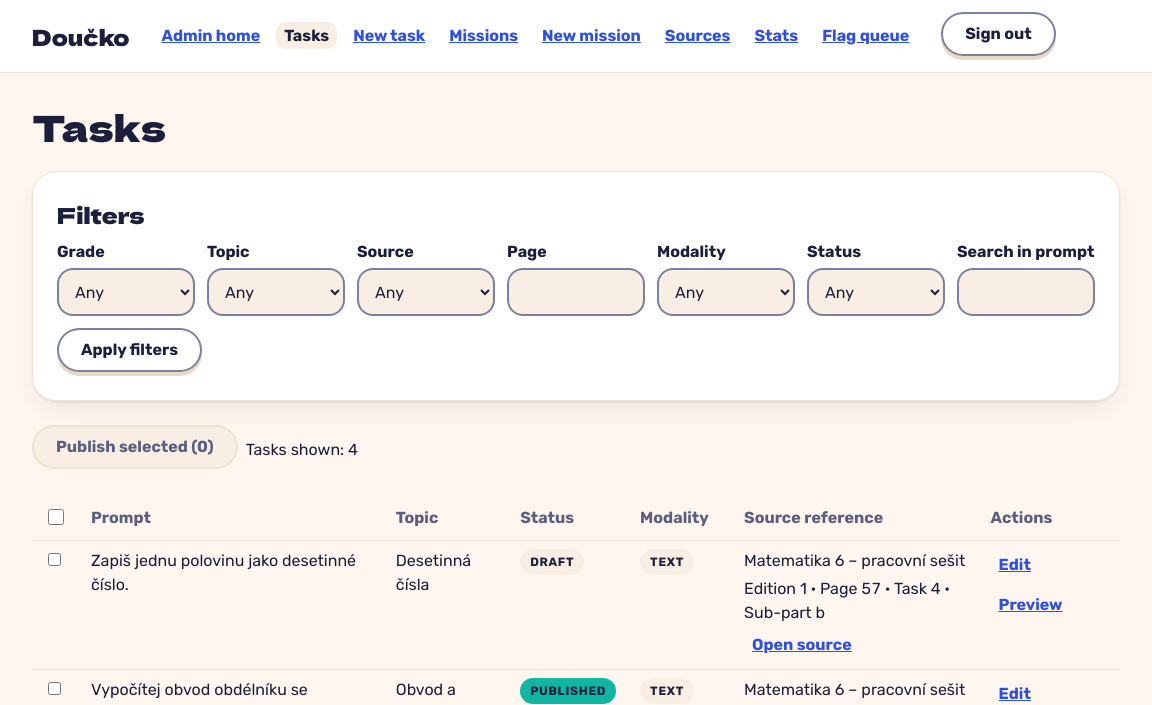
Test: task list (FR-11, FR-13) › refuses a page that is not a whole number before sending
Expected: the text "Zapiš jednu polovinu jako desetinné číslo." is shown, [79,540,384,670]
Type "5,5" into the field labelled "Page" at [576, 292], box [507,268,645,316]
Then press Enter
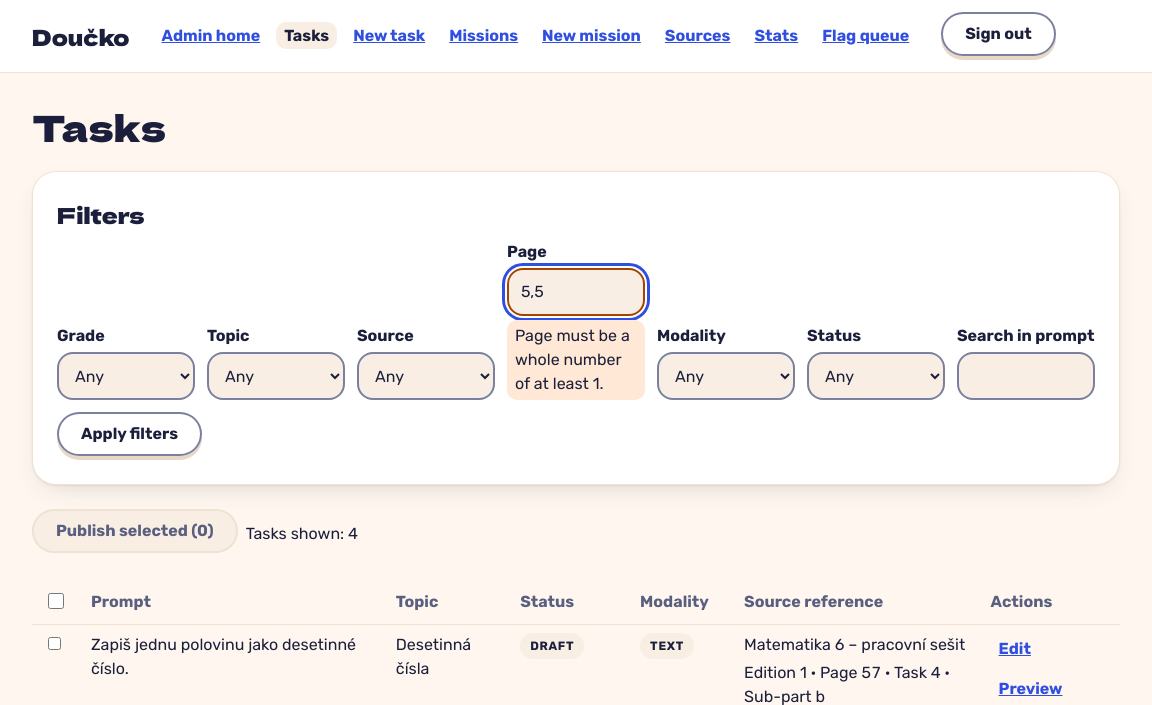
Now the text "Page must be a whole number of at least 1." is shown, box [507,320,645,400]
